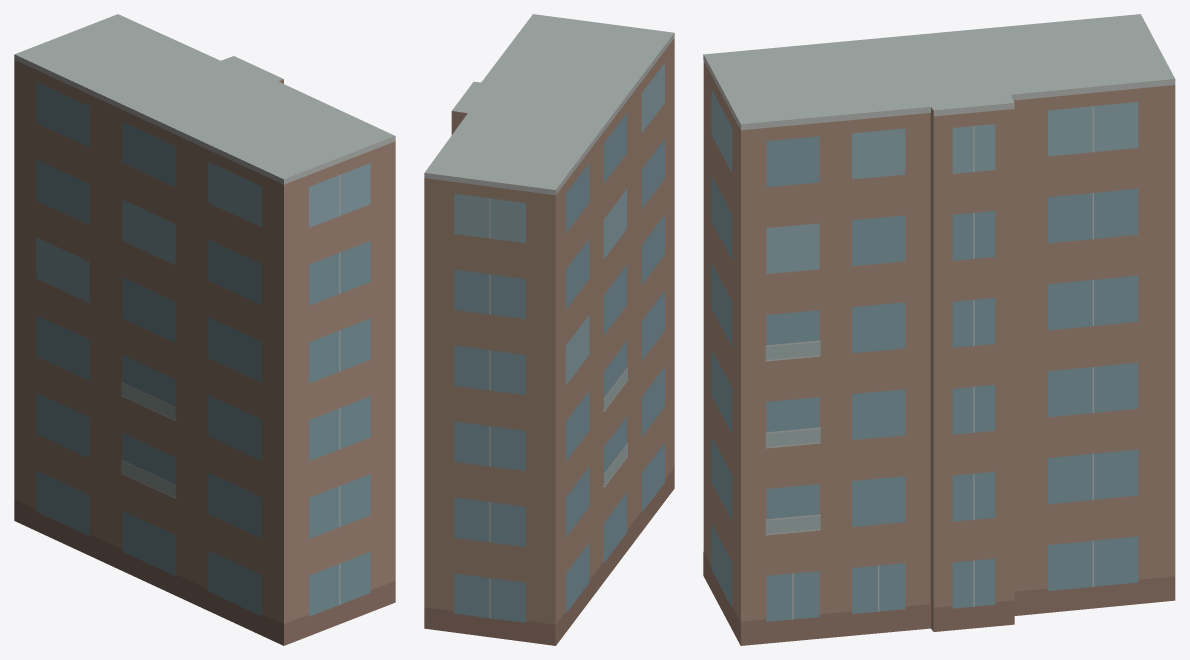
Rendered from survey-upis-33016227.glb.
3 views of the same model, side by side, from view 1: azimuth 30°, elevation 25°; view 2: azimuth 150°, elevation 25°; view 3: azimuth 270°, elevation 25° (orthographic). The views are drawn at different scales.
Parts seen in each view (by area): view 1: survey-upis-33016227.tmp; view 2: survey-upis-33016227.tmp; view 3: survey-upis-33016227.tmp.
Part boxes in pixels (bbox=[...]): survey-upis-33016227.tmp: bbox=[14, 14, 395, 645]; survey-upis-33016227.tmp: bbox=[424, 14, 674, 645]; survey-upis-33016227.tmp: bbox=[703, 14, 1175, 645].
Bounding box in the file's own units: 9.7 × 21.37 × 17.53.
